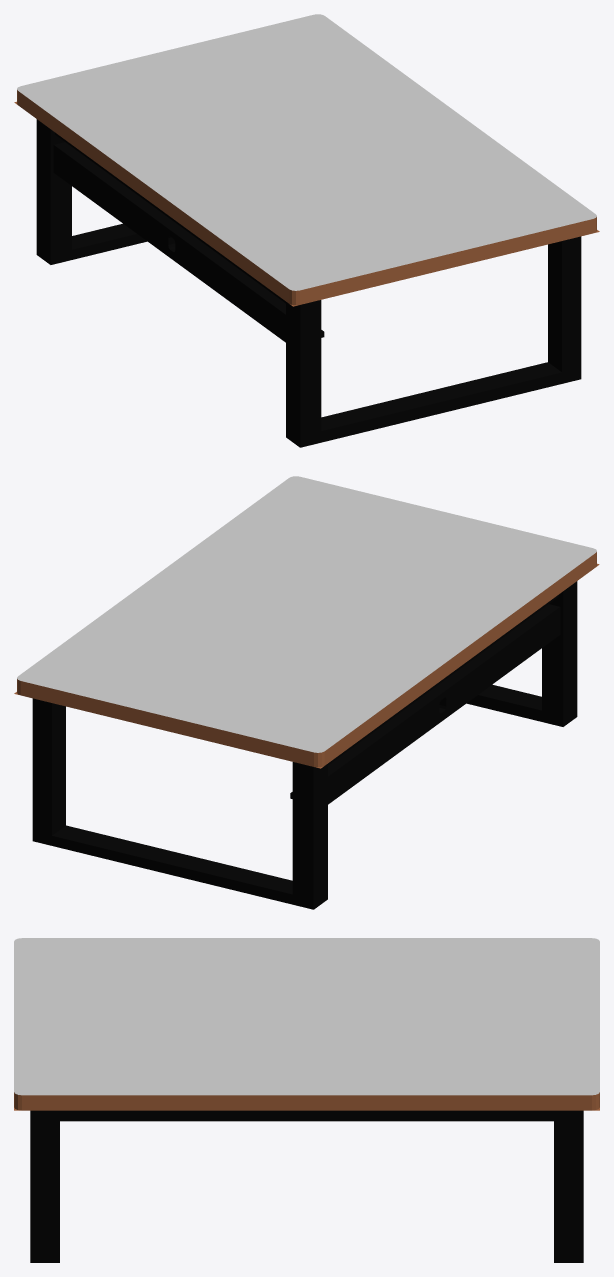
The model's file is Mesa 1.fbx.
3 renders of one model, top to bottom at view 1: azimuth 30°, elevation 25°; view 2: azimuth 150°, elevation 25°; view 3: azimuth 270°, elevation 25°, orthographic. The views are drawn at different scales.
Visible parts, largest first — view 1: Cube; view 2: Cube; view 3: Cube.
Part boxes in pixels (x1,y1,x2,y2): Cube: [14, 14, 599, 447]; Cube: [14, 476, 599, 909]; Cube: [14, 938, 599, 1262].
Bounding box in the file's own units: 200 × 103 × 315.
